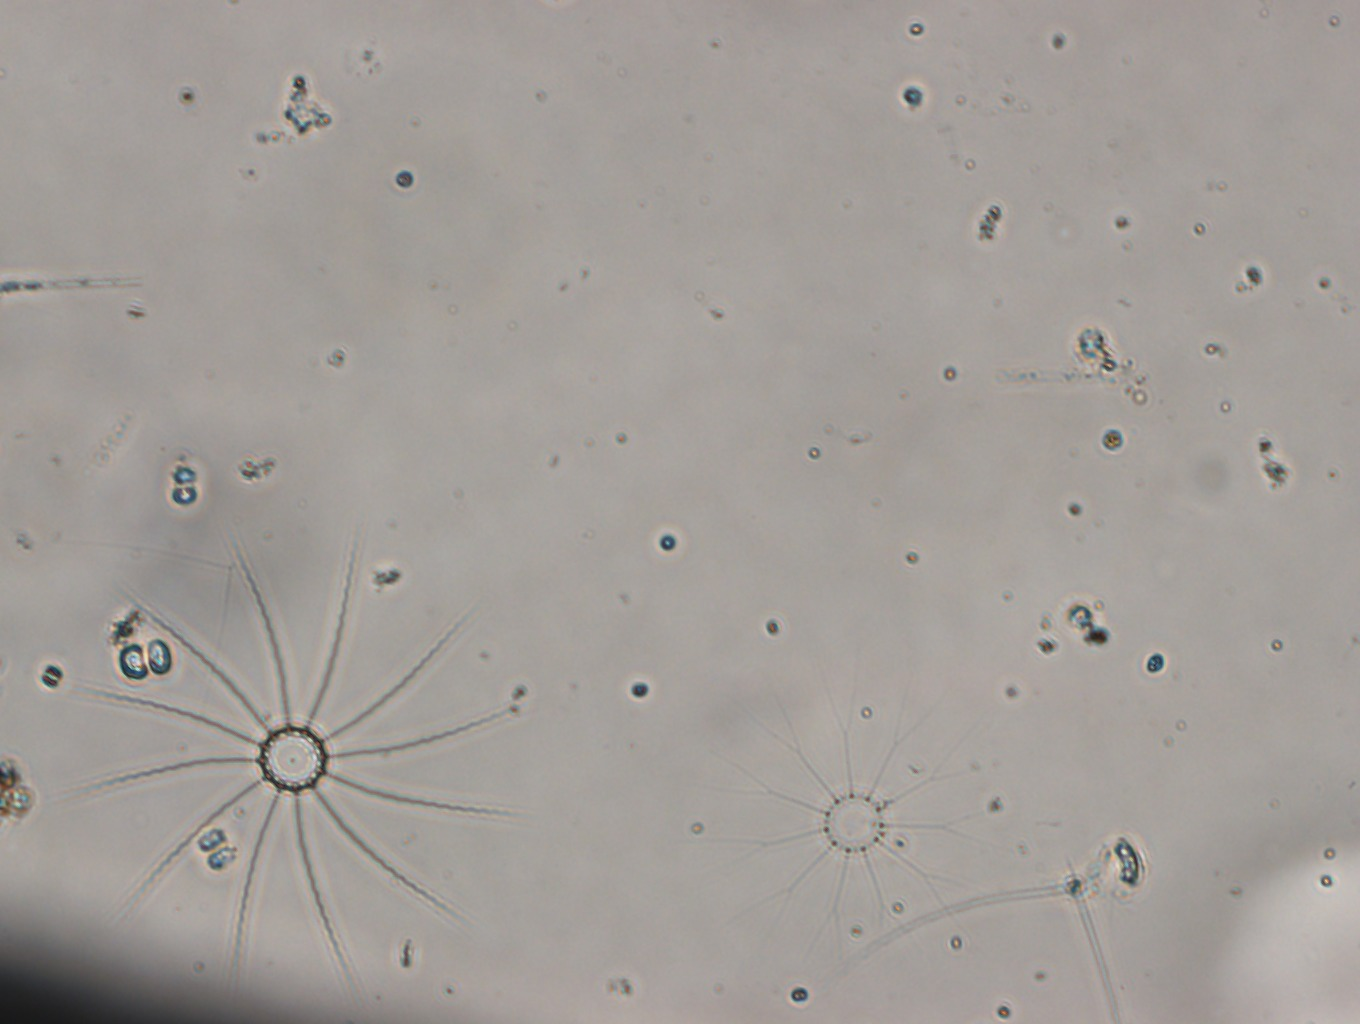bacteriastrum: (58, 522, 522, 1006), (695, 649, 1010, 984)
